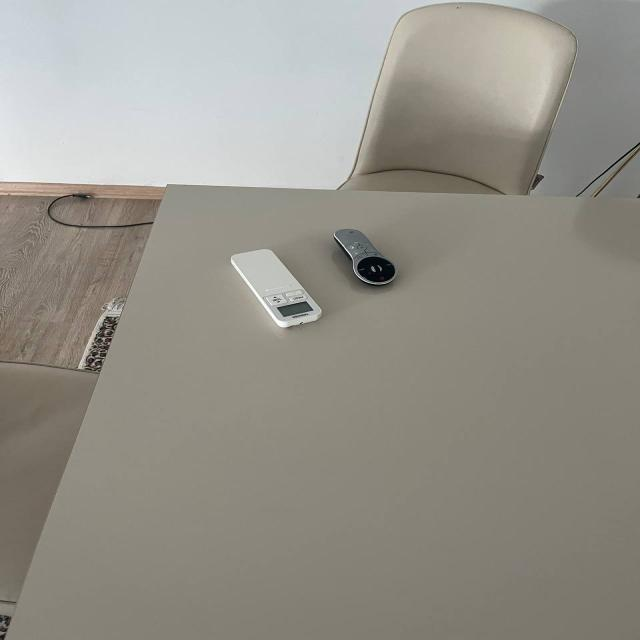remote: (230, 233, 322, 331), (316, 213, 411, 294)
